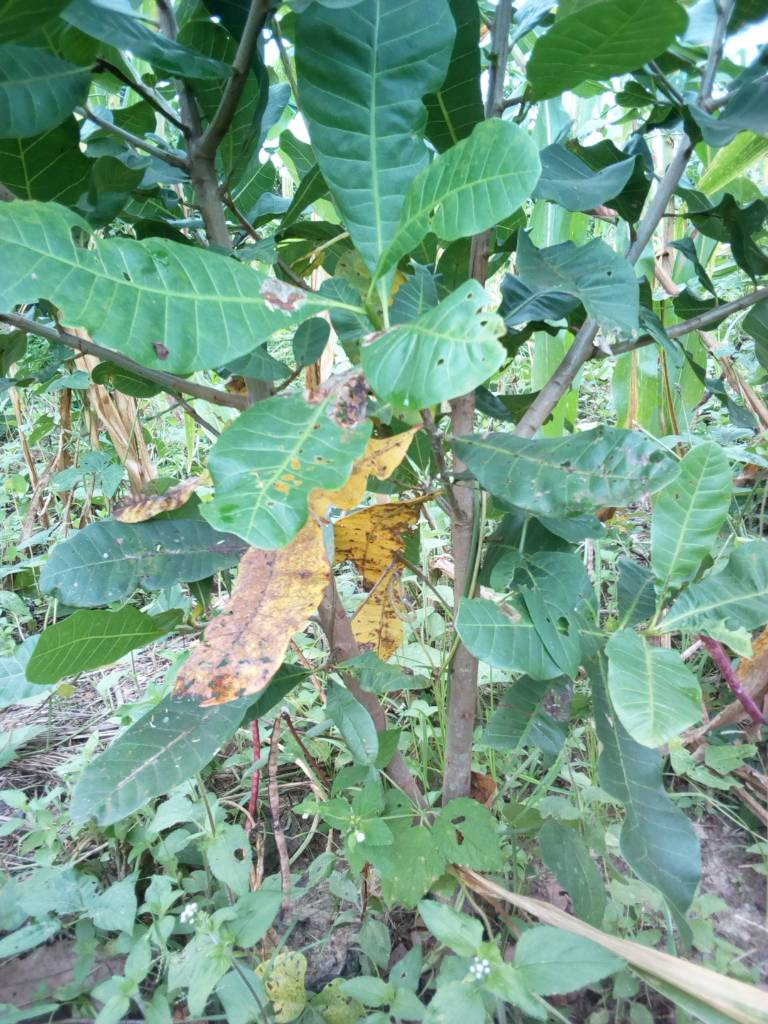Anoplonemis curvipes: (1, 186, 343, 380), (352, 271, 550, 441), (440, 418, 694, 515)
